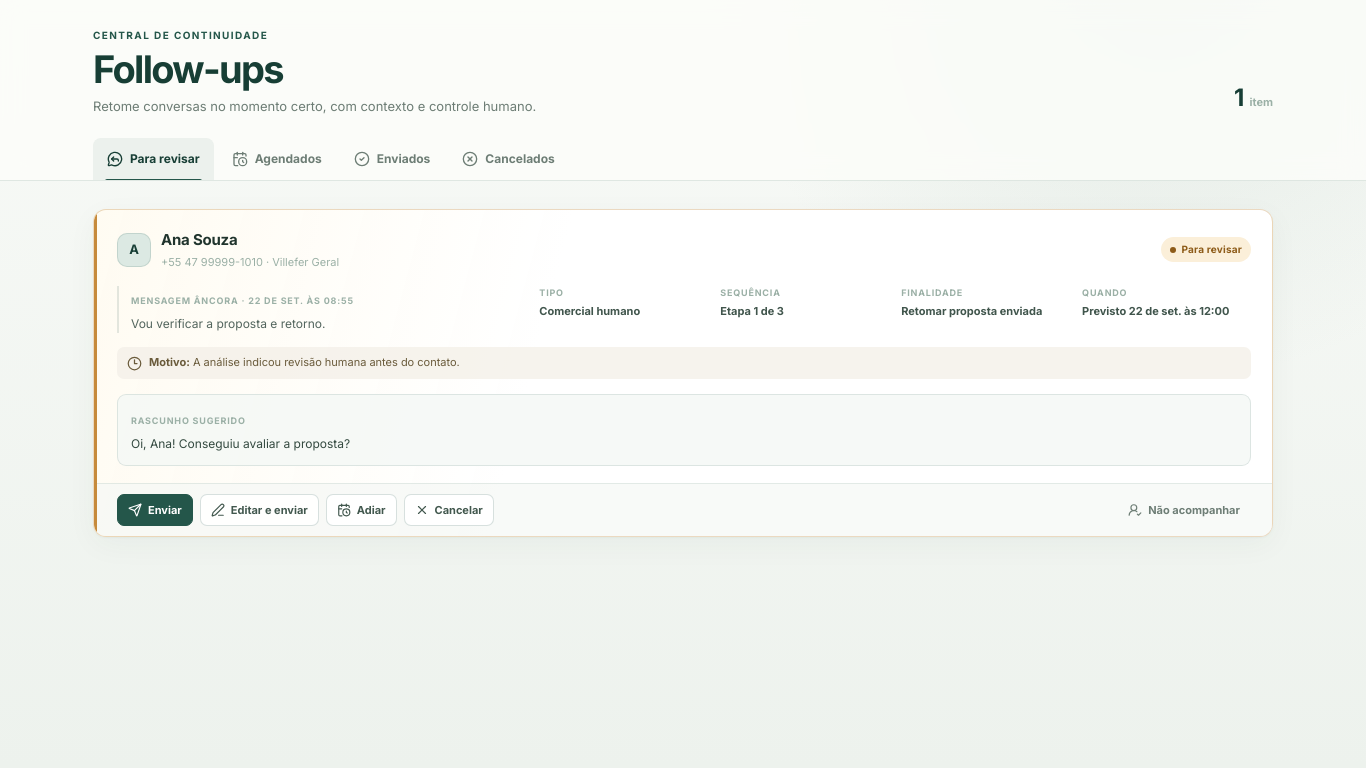
Test: FollowupsPage › requires explicit confirmation before cancelling
Click the button "Cancelar" at (449, 510), box [404,494,494,526]
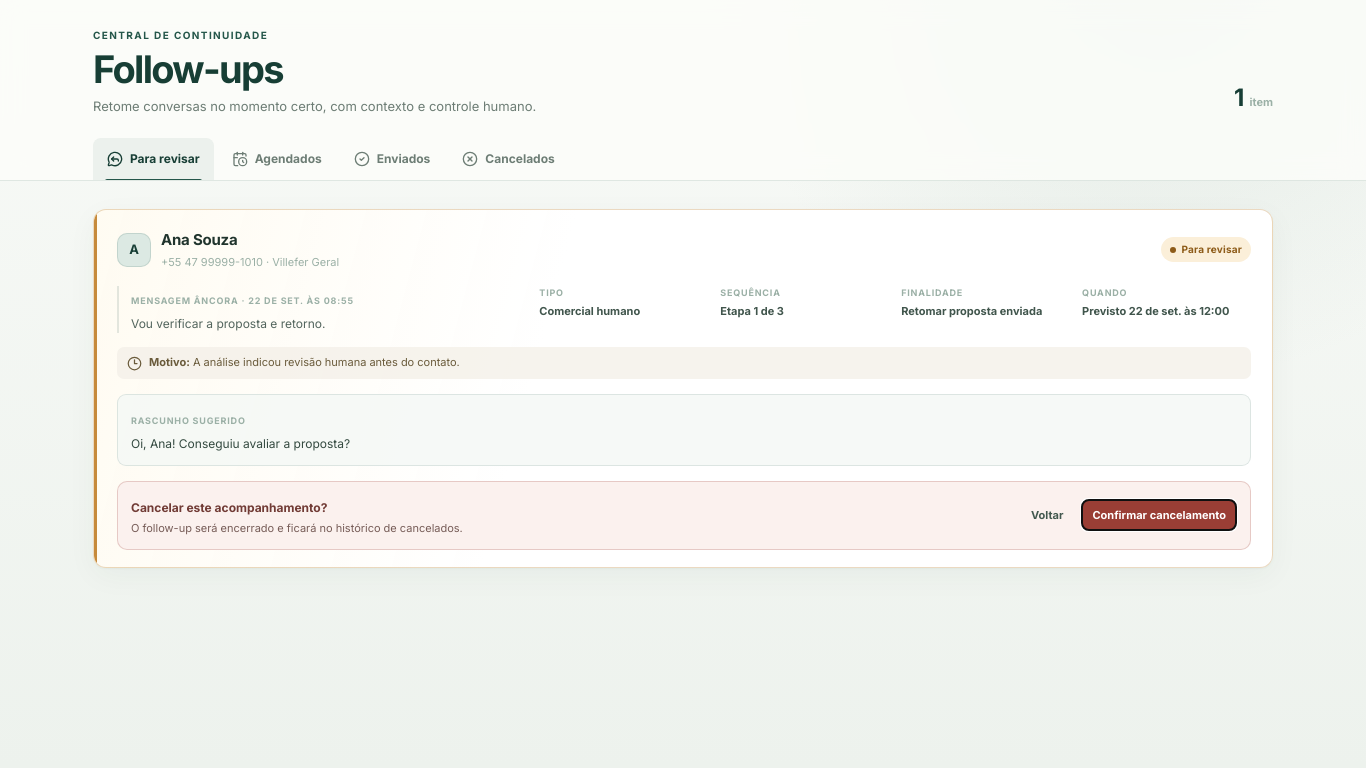
Now the text "Cancelar este acompanhamento?" is shown, box [131,500,327,515]
Click the button "Confirmar cancelamento" at (1159, 516), box [1081,500,1237,532]
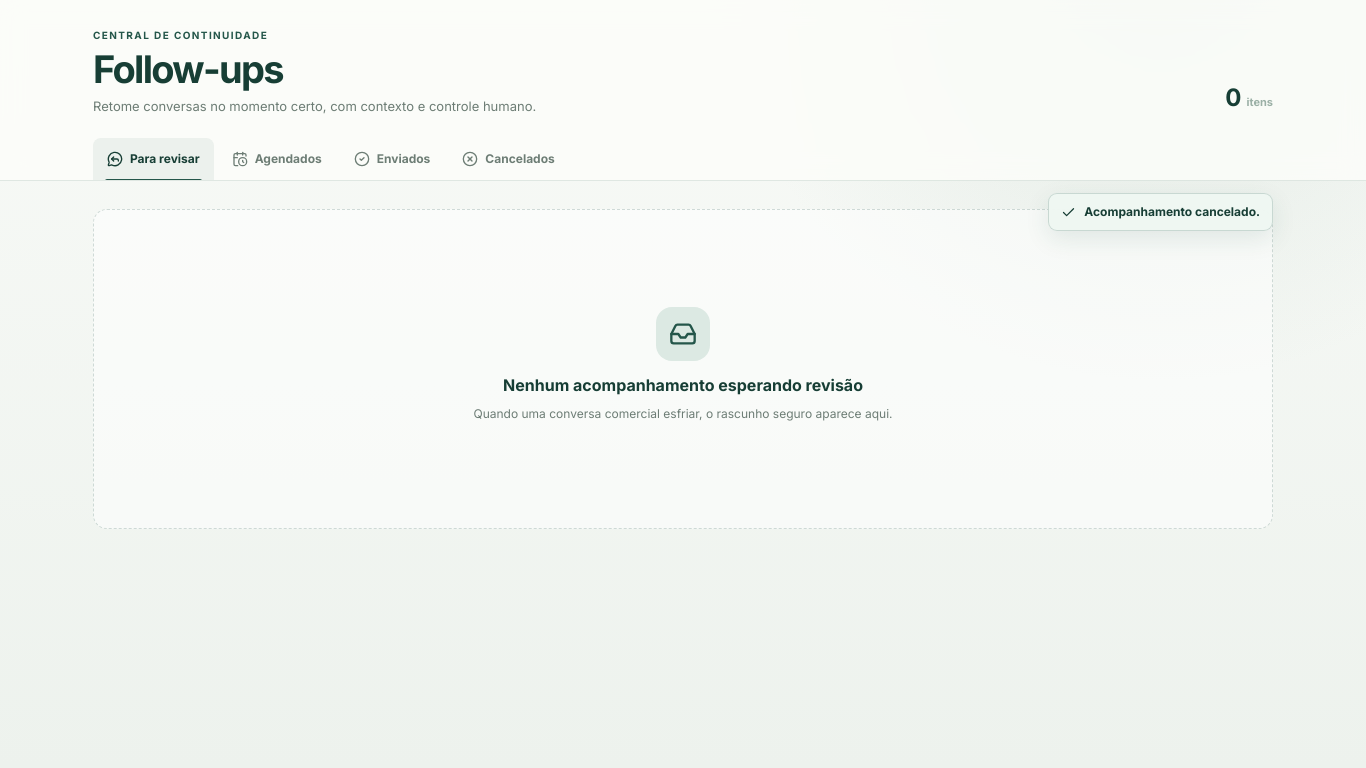
Now the text "Acompanhamento cancelado." is shown, box [1048,193,1273,231]
Now the text "Cancelar este acompanhamento?" is gone
